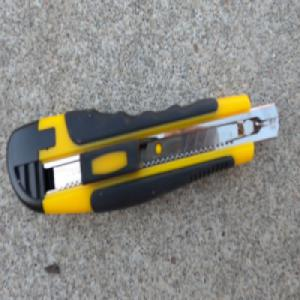Cutter: (10, 93, 278, 216)
